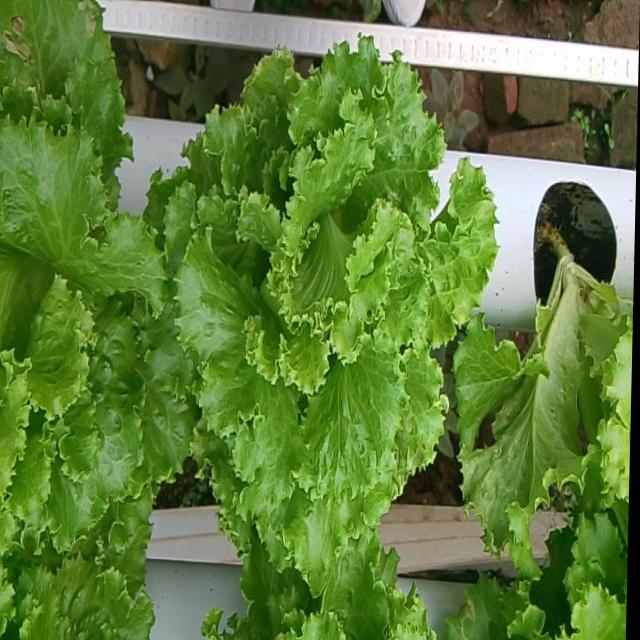Mature: (160, 20, 495, 559), (0, 97, 191, 539)
